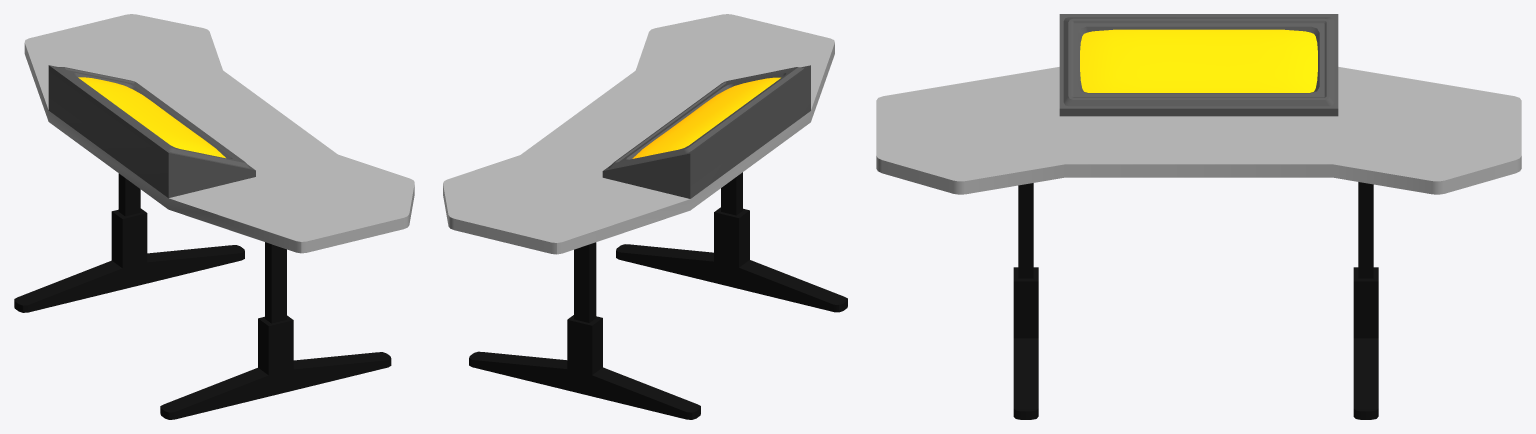
File: PraedatumDesk.glb
The picture shows the model from 3 angles, left to right: view 1: azimuth 30°, elevation 25°; view 2: azimuth 150°, elevation 25°; view 3: azimuth 270°, elevation 25°; orthographic projection. The views are drawn at different scales.
Parts seen in each view (by area): view 1: Desk; view 2: Desk; view 3: Desk.
Boxes of the visible parts, left/top/right/bottom form: Desk: left=14, top=14, right=414, bottom=419; Desk: left=443, top=14, right=847, bottom=419; Desk: left=876, top=14, right=1521, bottom=419.
Bounding box in the file's own units: 1.09 × 1.15 × 2.32.
